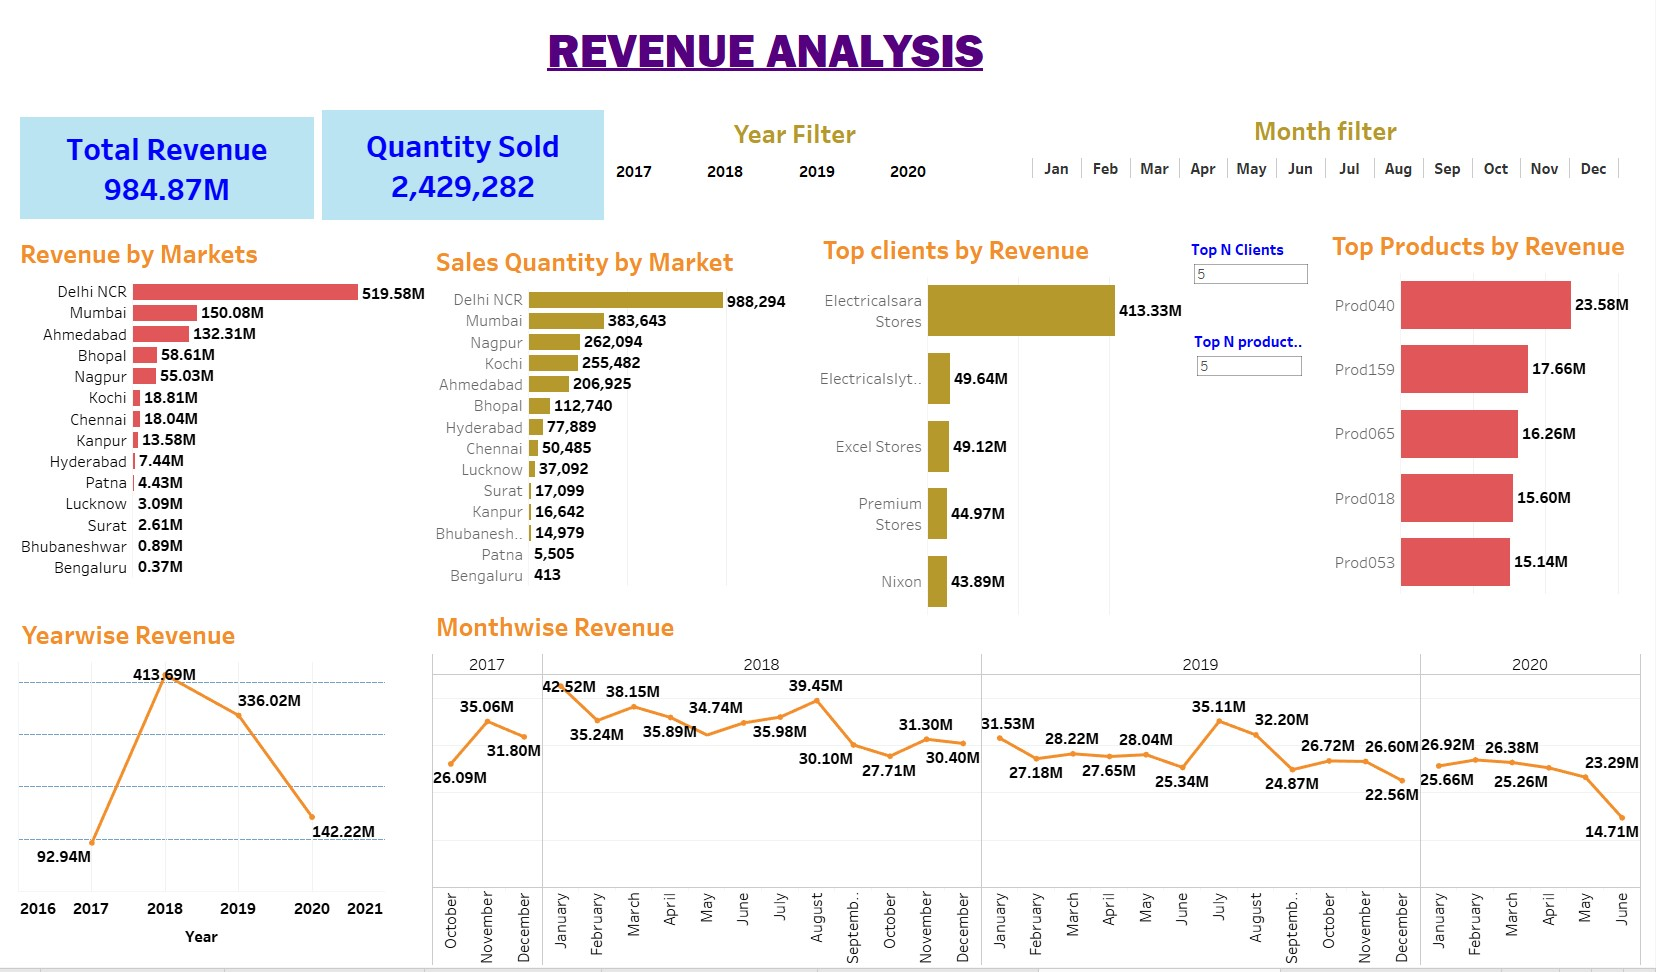

Layout of this report page (visuals, bound fields, positions):
{"tool":"tableau","page":{"name":"Dashboard-Revenue Analysis","canvas":[1000,1000],"units":"permille","ordinal":1},"visuals":[{"type":"text","box":[134.6,16.5,657.2,80.3]},{"type":"worksheet","title":"Month filter","mark":"Automatic","cols":["cy_date","cy_date"],"box":[624,116.4,354.2,72.1]},{"type":"worksheet","title":"KPI2-Quantity Sold","mark":"Automatic","box":[195.5,117.4,170.2,113.3]},{"type":"worksheet","title":"Year Filter","mark":"Automatic","cols":["cy_date"],"box":[370.6,119.5,220.9,72.1]},{"type":"worksheet","title":"KPI1-Total Revenue","mark":"Automatic","box":[13.3,124.6,177.4,105]},{"type":"worksheet","title":"Top Products by Revenue","mark":"Automatic","rows":["product_code (products)"],"cols":["Calculation_1536853433377452032"],"box":[802.7,234.8,190.1,381.1]},{"type":"worksheet","title":"Top clients by Revenue","mark":"Automatic","rows":["custmer_name"],"cols":["Calculation_1536853433377452032"],"box":[495.5,238.9,227.5,398.6]},{"type":"worksheet","title":"Revenue by Markets","mark":"Automatic","rows":["markets_name"],"cols":["Calculation_1536853433377452032"],"box":[10.9,243.1,256.5,356.3]},{"type":"parameter","param":"[Parameters].[Parameter 1]","box":[720,250.3,72.4,59.7]},{"type":"worksheet","title":"Sales Quantity by Market","mark":"Automatic","rows":["markets_name"],"cols":["sales_qty"],"box":[261.9,251.3,222.1,356.3]},{"type":"parameter","param":"[Parameters].[Parameter 2]","box":[721.8,345,67,57.7]},{"type":"worksheet","title":"Monthwise Revenue","mark":"Automatic","rows":["Calculation_1536853433377452032"],"cols":["cy_date","cy_date"],"box":[261.9,627.2,729.6,371.8]},{"type":"worksheet","title":"Yearwise Revenue","mark":"Automatic","rows":["Calculation_1536853433377452032"],"cols":["year"],"box":[12.1,635.4,221.5,351.2]}]}

Visuals, with their boxes on the dashboard's canvas, which has no fixed pixel size, in thousandths of its width and height (x1, y1, x2, y2). These are canvas units, not pixel positions in the 1656x972 screenshot, which may show the page scaled, cropped or inside an application window:
text: [135, 16, 792, 97]
"Month filter" worksheet: [624, 116, 978, 188]
"KPI2-Quantity Sold" worksheet: [196, 117, 366, 231]
"Year Filter" worksheet: [371, 120, 592, 192]
"KPI1-Total Revenue" worksheet: [13, 125, 191, 230]
"Top Products by Revenue" worksheet: [803, 235, 993, 616]
"Top clients by Revenue" worksheet: [496, 239, 723, 638]
"Revenue by Markets" worksheet: [11, 243, 267, 599]
parameter: [720, 250, 792, 310]
"Sales Quantity by Market" worksheet: [262, 251, 484, 608]
parameter: [722, 345, 789, 403]
"Monthwise Revenue" worksheet: [262, 627, 992, 999]
"Yearwise Revenue" worksheet: [12, 635, 234, 987]
